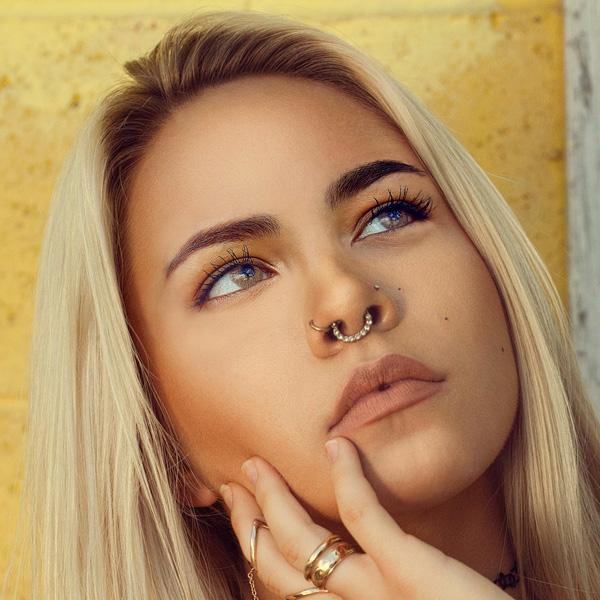Eyes: (188, 239, 288, 316), (350, 186, 436, 252)
